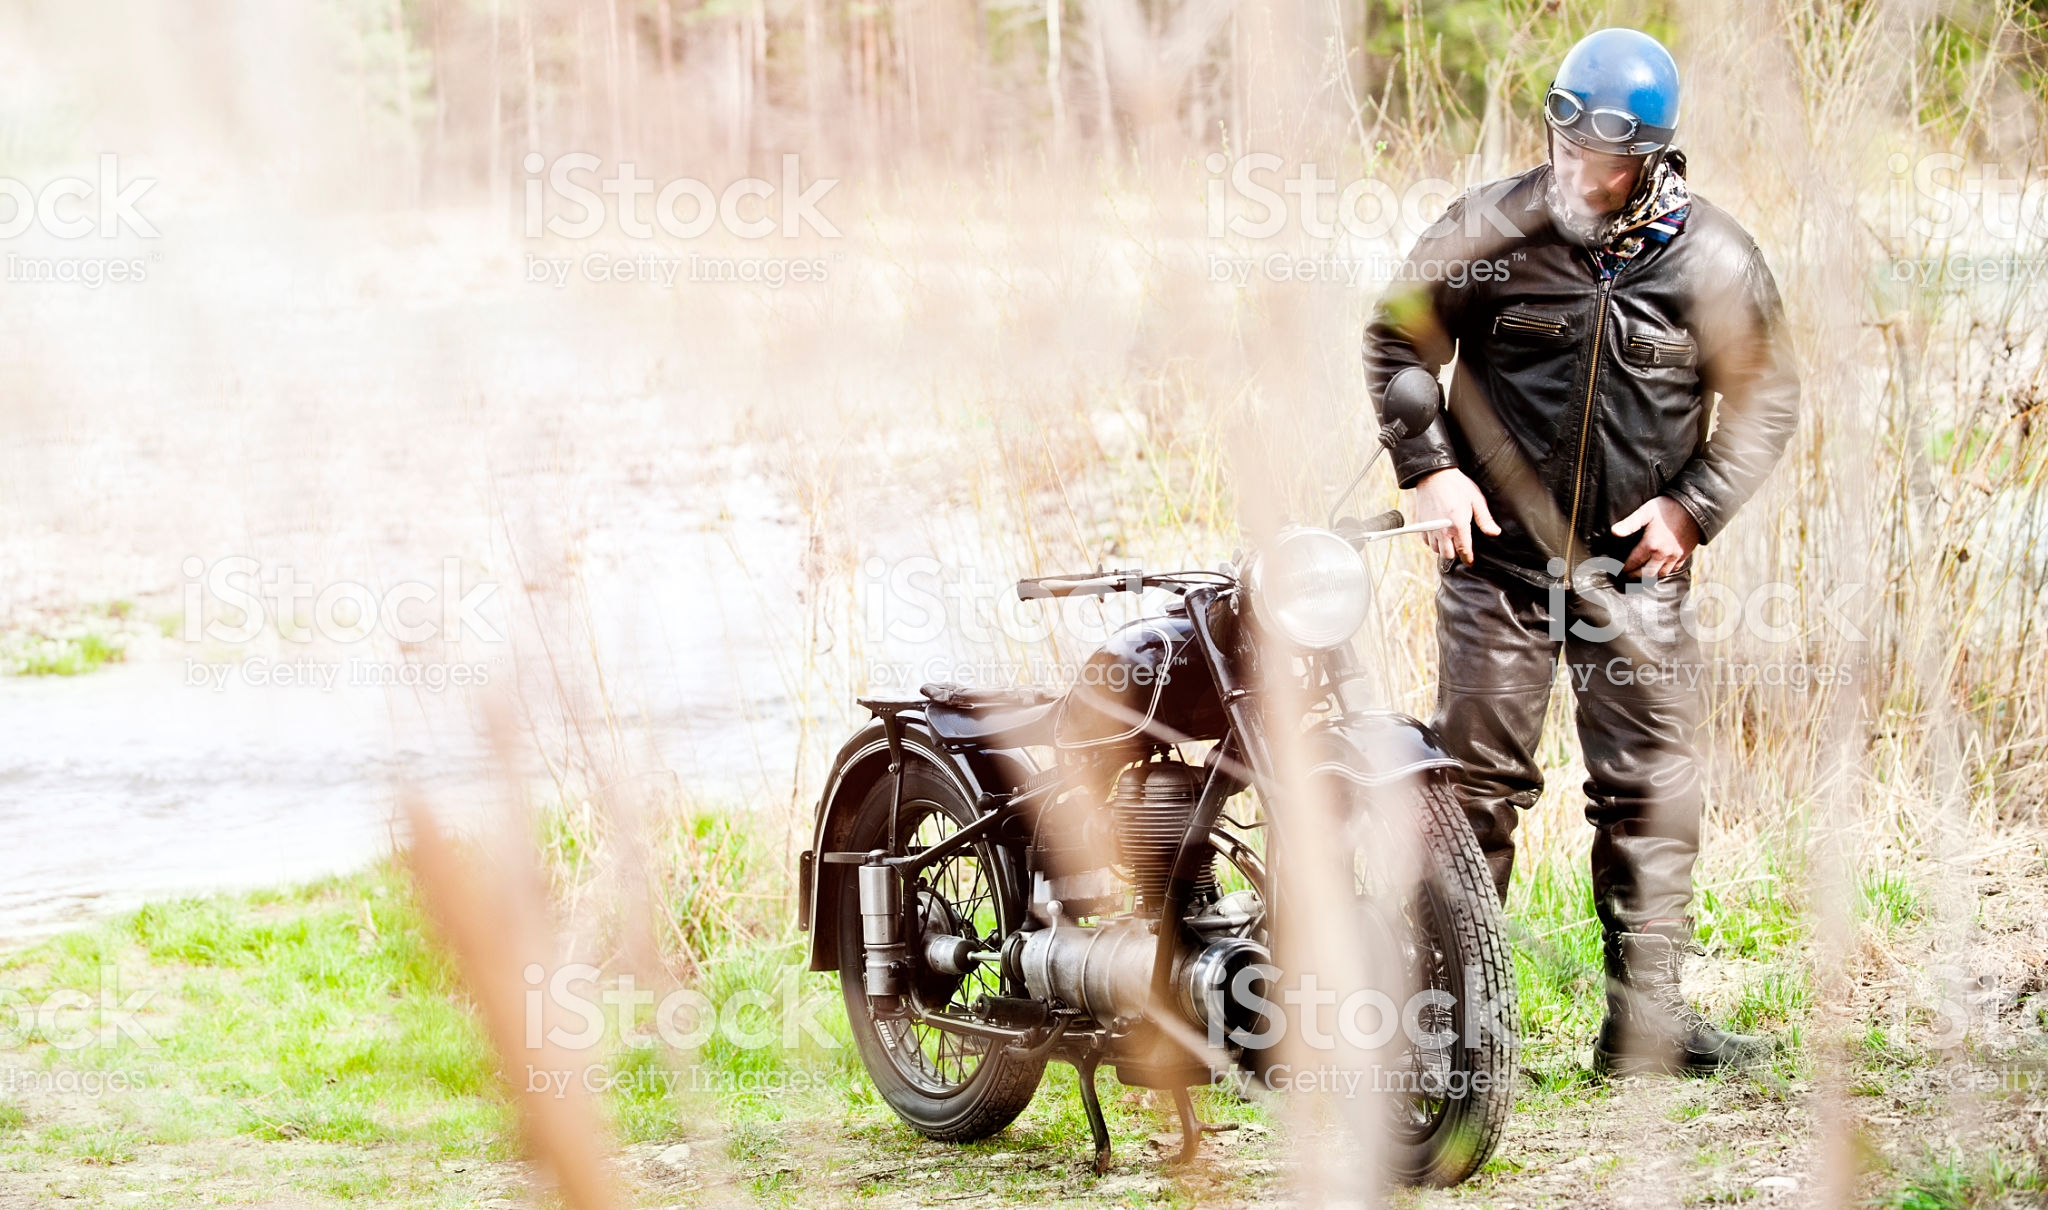helmet: (1540, 35, 1687, 161)
